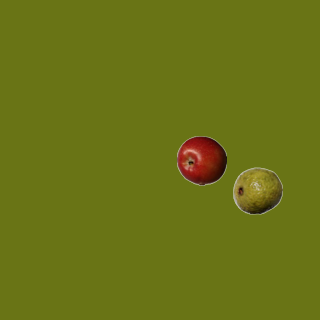Apple Braeburn: (176, 135, 226, 185)
Guava: (232, 165, 282, 215)
